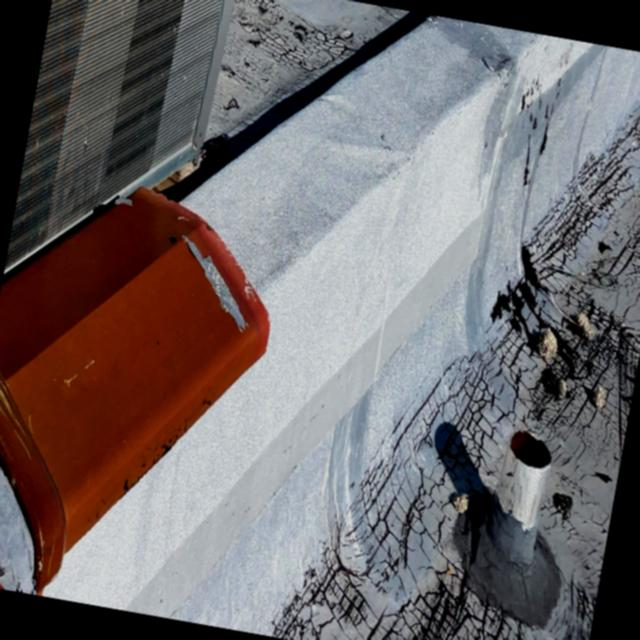SPLIT-SYSTEM: (0, 0, 268, 442)
